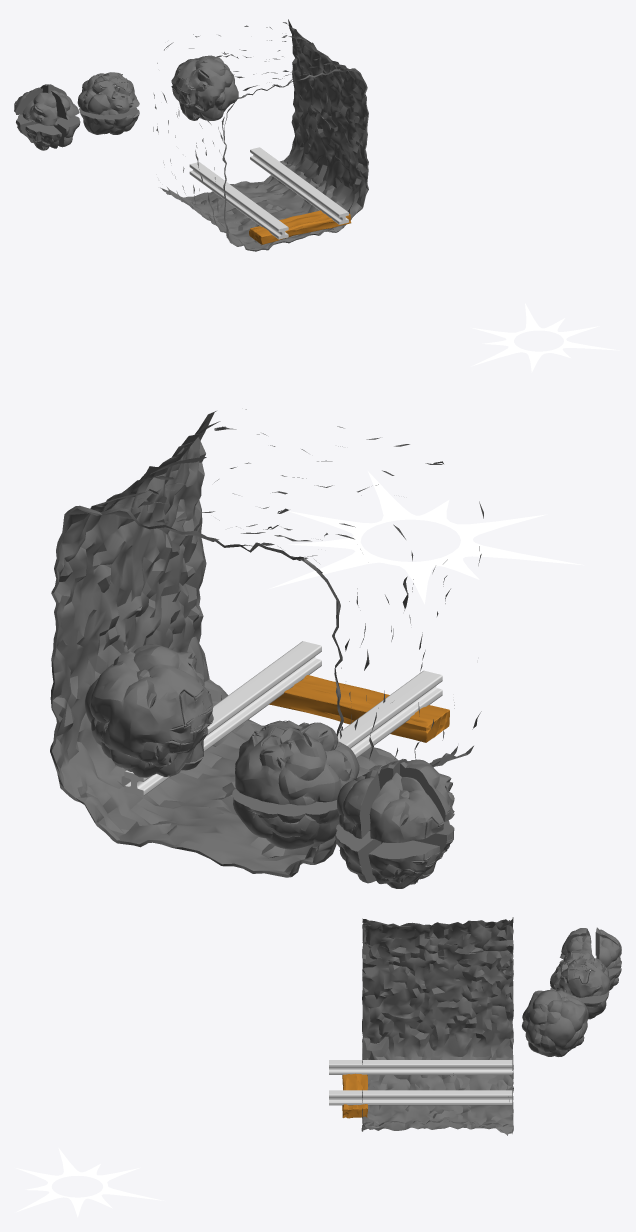
Rendered from rock-mine.glb.
3 views of the same model, one above another, from view 1: azimuth 30°, elevation 25°; view 2: azimuth 150°, elevation 25°; view 3: azimuth 270°, elevation 25° (orthographic). The views are drawn at different scales.
Parts seen in each view (by area): view 1: tunnel, rail-metal, rock-1, rock-3, rock-2, flash, rail-tie; view 2: tunnel, rock-1, rock-2, rock-3, rail-metal, flash, rail-tie; view 3: tunnel, rail-metal, rock-1, rock-2, flash, rock-3, rail-tie.
Boxes of the visible parts, x1,y1,x2,y2 form: tunnel: (153,19,368,251); rail-metal: (189,147,348,239); rock-1: (171,55,238,120); rock-3: (14,84,80,150); rock-2: (77,72,139,134); flash: (471,303,619,372); rail-tie: (249,210,351,244); tunnel: (50,409,483,877); rock-1: (85,644,213,777); rock-2: (232,720,359,849); rock-3: (335,759,454,888); rail-metal: (124,641,442,796); flash: (268,471,583,604); rail-tie: (269,675,449,742); tunnel: (361,917,513,1135); rail-metal: (329,1060,512,1105); rock-1: (522,990,588,1056); rock-2: (550,950,610,1019); flash: (16,1148,163,1217); rock-3: (559,927,621,990); rail-tie: (342,1073,367,1118).
Bounding box in the file's own units: 12.92 × 6.97 × 19.89.
